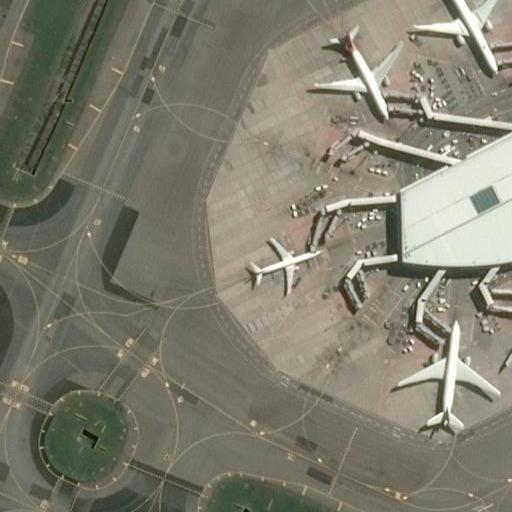Aircraft: (397, 311, 491, 430), (310, 24, 397, 117), (411, 0, 507, 62), (237, 235, 326, 297), (505, 281, 512, 390)
